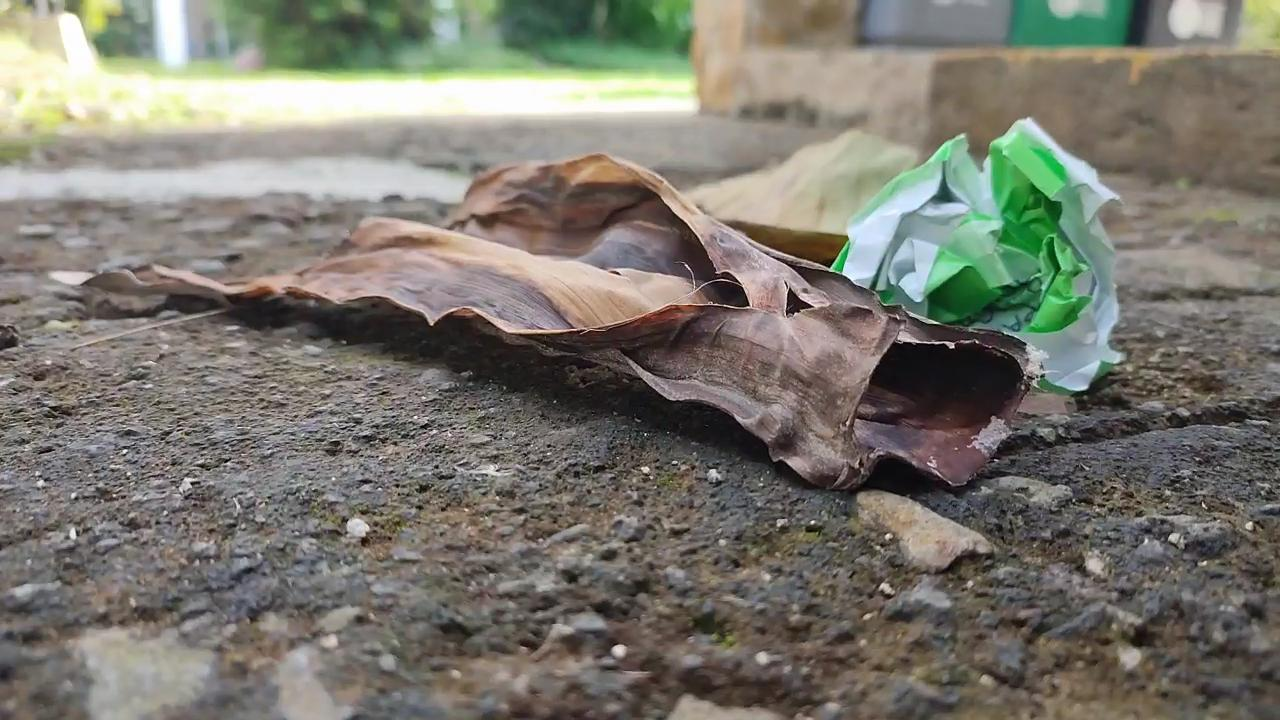Paper: (821, 98, 1135, 408)
